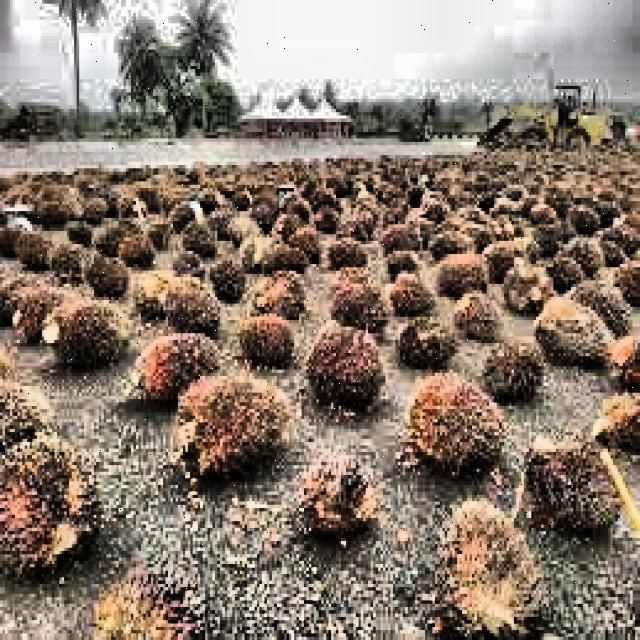FFB: (438, 501, 546, 640), (0, 436, 102, 577), (177, 379, 289, 474), (528, 438, 630, 539), (410, 374, 503, 466), (96, 575, 205, 640), (311, 331, 389, 408), (52, 301, 131, 370), (138, 334, 221, 399), (302, 461, 372, 528), (534, 306, 610, 362), (483, 336, 544, 401), (16, 279, 77, 339), (402, 318, 457, 371), (233, 312, 292, 361), (592, 395, 640, 454), (166, 278, 219, 331), (337, 285, 386, 335), (437, 252, 488, 293), (458, 294, 503, 339), (256, 270, 304, 311), (88, 259, 129, 300), (393, 279, 434, 317), (214, 257, 248, 301), (137, 275, 172, 312), (330, 234, 361, 265), (387, 249, 420, 278)
